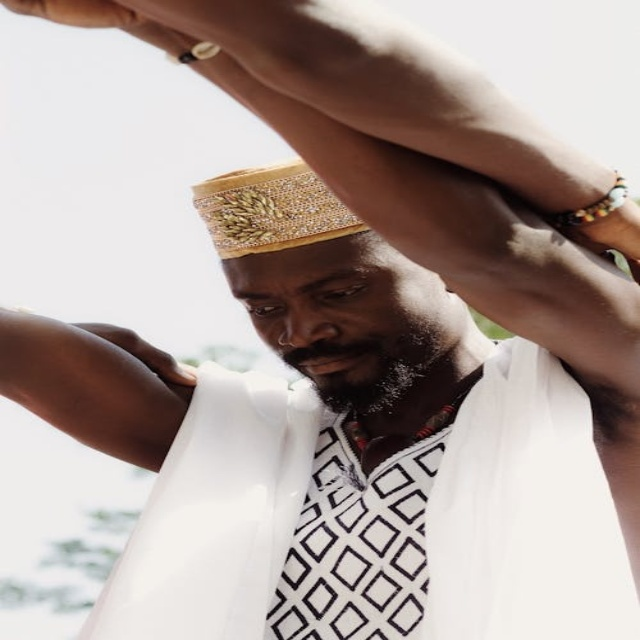Sin_gafas: (230, 262, 384, 321)
Sin_mascara: (291, 340, 380, 394)
